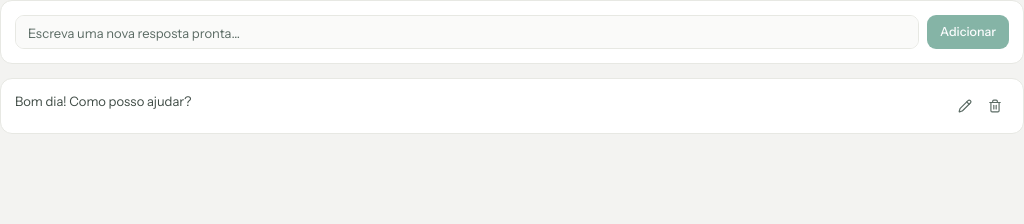
Test case: QuickRepliesPanel (Fase 1, Bloco F1.9) › edita uma resposta existente (inline) e salva
The image size is (1024, 224).
Expected: the text "Bom dia! Como posso ajudar?" is shown, [15, 93, 191, 109]
Click the button named "Editar" at (965, 106), box [951, 92, 979, 120]
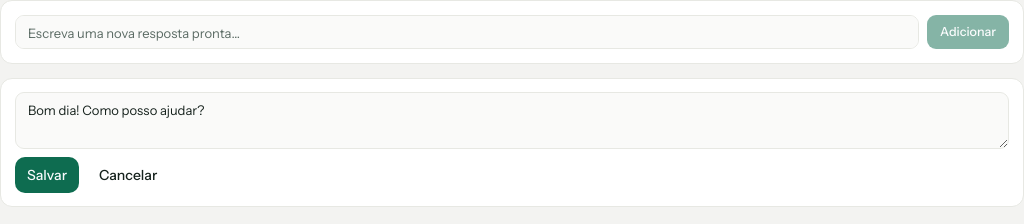
Replace the text in the text box showing "Bom dia! Como posso ajudar?" with "Texto atualizado" at (512, 120), box [15, 92, 1009, 149]
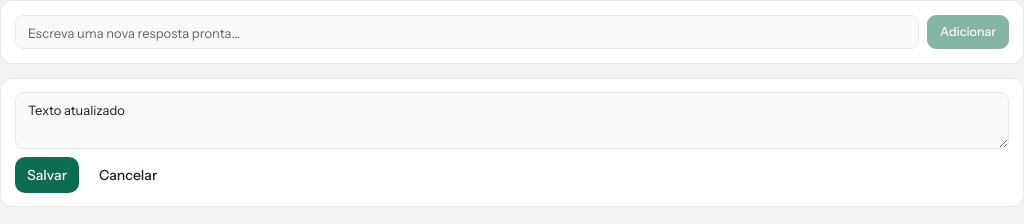
Click the button "Salvar" at (47, 175), box [15, 157, 79, 193]
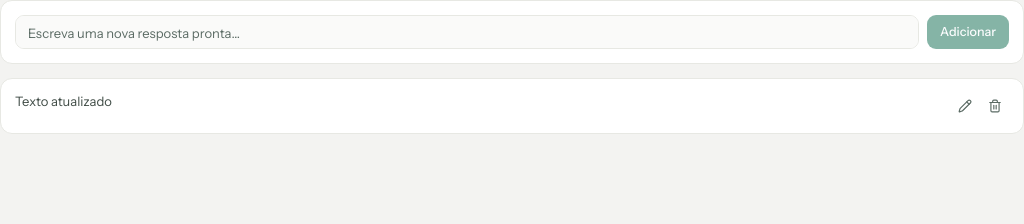
Expected: the text "Texto atualizado" is shown, [15, 93, 112, 109]
